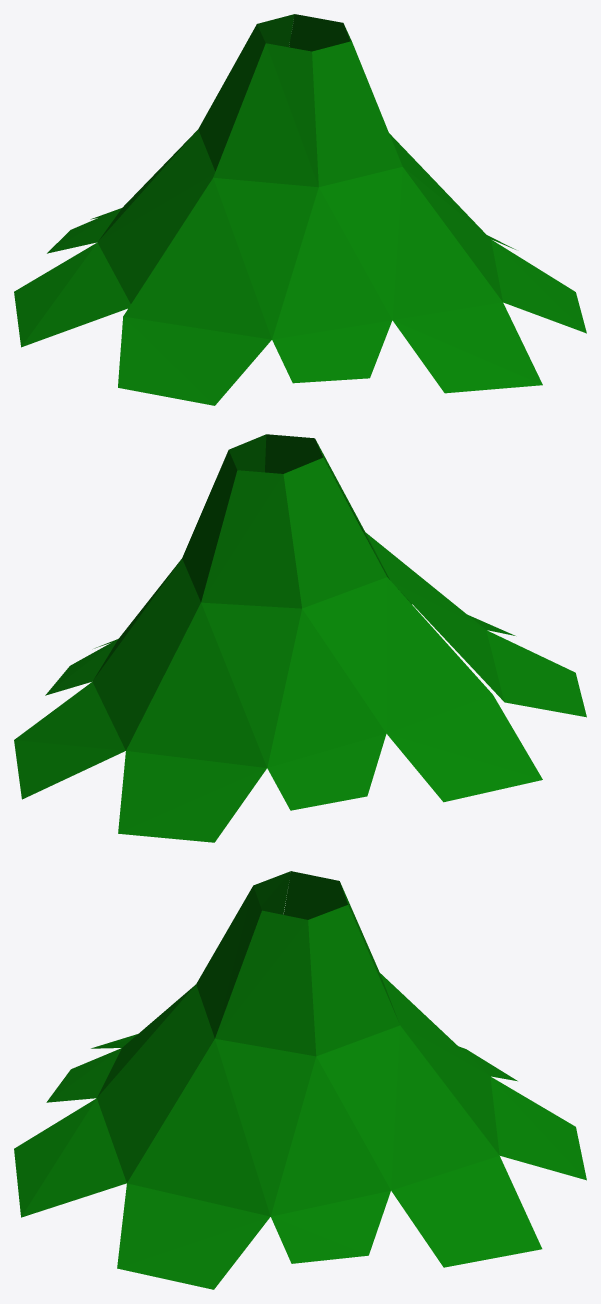
File: Vegetation_Modular_Pine_Whimsical_Base_Large_01.FBX
The picture shows the model from 3 angles, top to bottom: view 1: azimuth 30°, elevation 25°; view 2: azimuth 150°, elevation 25°; view 3: azimuth 270°, elevation 25°; orthographic projection.
Visible parts, largest first — view 1: Vegetation_Modular_Pine_Whimsical_Base_Large_01; view 2: Vegetation_Modular_Pine_Whimsical_Base_Large_01; view 3: Vegetation_Modular_Pine_Whimsical_Base_Large_01.
Part boxes in pixels (<box>): Vegetation_Modular_Pine_Whimsical_Base_Large_01: <box>14,14,586,405</box>; Vegetation_Modular_Pine_Whimsical_Base_Large_01: <box>14,434,586,842</box>; Vegetation_Modular_Pine_Whimsical_Base_Large_01: <box>14,871,586,1289</box>.
Size of the model in its own units: 3151 by 1751 by 3108.
